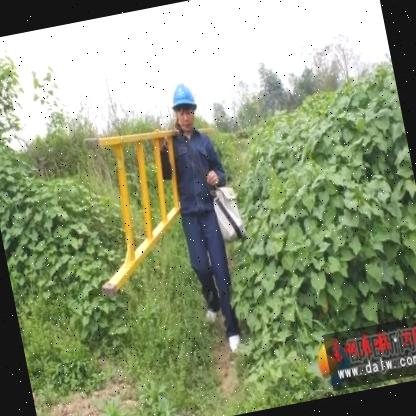capacete: (164, 78, 202, 134)
sem_colete_refletivo: (158, 124, 232, 218)
